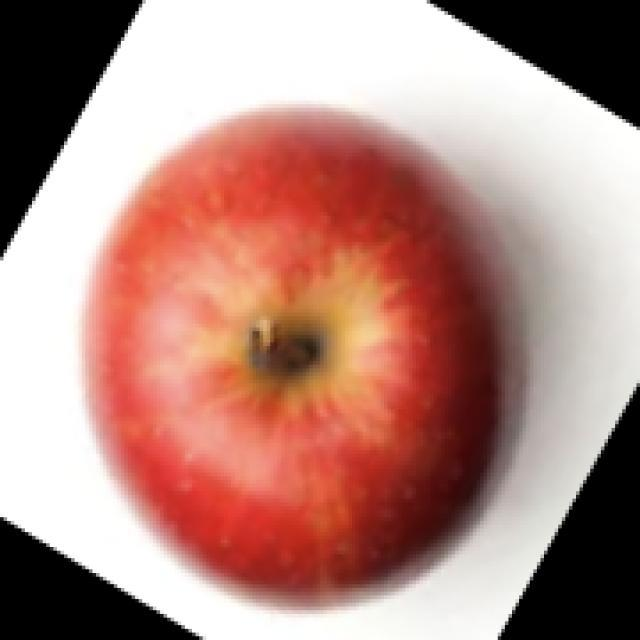Fresh Apple: (93, 100, 512, 640)
